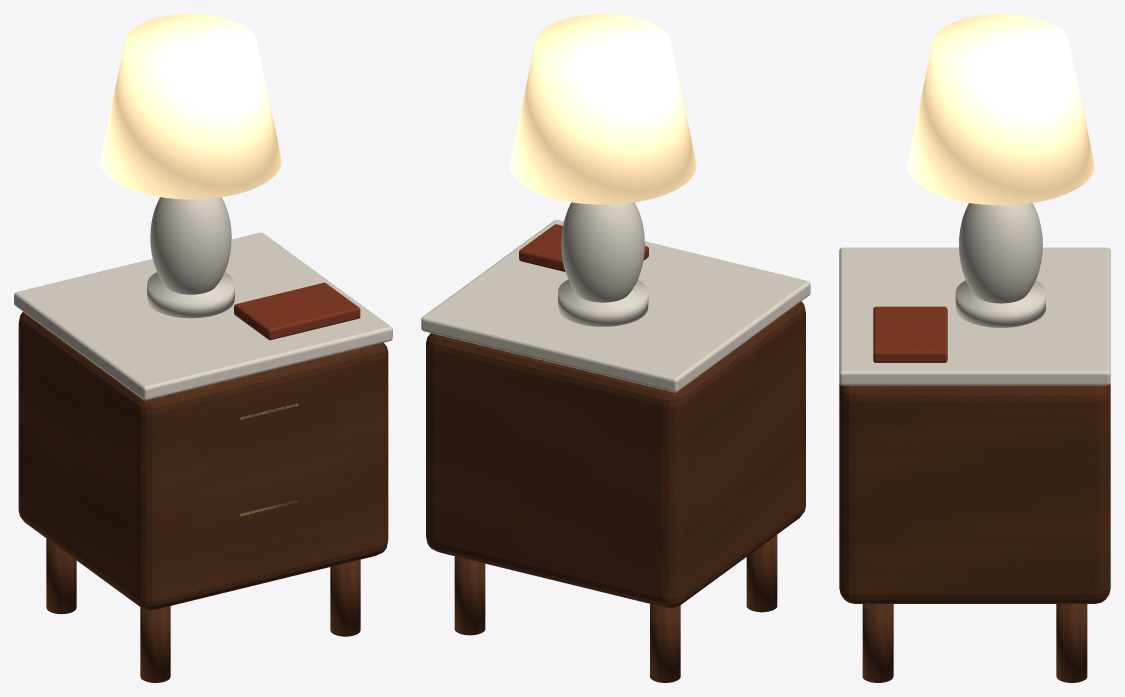
The model's file is bedroom-bedside.glb.
3 renders of one model, left to right at view 1: azimuth 30°, elevation 25°; view 2: azimuth 150°, elevation 25°; view 3: azimuth 270°, elevation 25°, orthographic. The views are drawn at different scales.
Visible parts, largest first — view 1: CANONICAL walnut cabinet, ACCENT warm linen lampshade, ACCENT pale stone top, ACCENT ceramic lamp body, ACCENT bedside book, ACCENT ceramic lamp foot, ACCENT short walnut foot, ACCENT short walnut foot.002, ACCENT short walnut foot.001; view 2: CANONICAL walnut cabinet, ACCENT pale stone top, ACCENT warm linen lampshade, ACCENT ceramic lamp body, ACCENT ceramic lamp foot, ACCENT short walnut foot.003, ACCENT short walnut foot.001, ACCENT short walnut foot, ACCENT bedside book; view 3: CANONICAL walnut cabinet, ACCENT warm linen lampshade, ACCENT pale stone top, ACCENT ceramic lamp body, ACCENT bedside book, ACCENT ceramic lamp foot, ACCENT short walnut foot.002, ACCENT short walnut foot.003.
Boxes of the visible parts, left/top/right/bottom form: CANONICAL walnut cabinet: left=18, top=312, right=388, bottom=610; ACCENT warm linen lampshade: left=100, top=14, right=281, bottom=199; ACCENT pale stone top: left=14, top=232, right=392, bottom=400; ACCENT ceramic lamp body: left=150, top=197, right=231, bottom=294; ACCENT bedside book: left=234, top=282, right=360, bottom=340; ACCENT ceramic lamp foot: left=147, top=272, right=234, bottom=318; ACCENT short walnut foot: left=140, top=606, right=170, bottom=682; ACCENT short walnut foot.002: left=330, top=559, right=360, bottom=636; ACCENT short walnut foot.001: left=46, top=538, right=76, bottom=614; CANONICAL walnut cabinet: left=426, top=301, right=805, bottom=608; ACCENT pale stone top: left=421, top=220, right=810, bottom=392; ACCENT warm linen lampshade: left=509, top=14, right=696, bottom=204; ACCENT ceramic lamp body: left=561, top=202, right=644, bottom=302; ACCENT ceramic lamp foot: left=558, top=279, right=648, bottom=326; ACCENT short walnut foot.003: left=454, top=556, right=485, bottom=635; ACCENT short walnut foot.001: left=650, top=604, right=680, bottom=682; ACCENT short walnut foot: left=746, top=535, right=777, bottom=612; ACCENT bedside book: left=519, top=224, right=648, bottom=271; CANONICAL walnut cabinet: left=839, top=383, right=1110, bottom=603; ACCENT warm linen lampshade: left=907, top=14, right=1094, bottom=205; ACCENT pale stone top: left=839, top=247, right=1110, bottom=385; ACCENT ceramic lamp body: left=959, top=203, right=1042, bottom=303; ACCENT bedside book: left=873, top=306, right=947, bottom=362; ACCENT ceramic lamp foot: left=955, top=280, right=1045, bottom=327; ACCENT short walnut foot.002: left=862, top=604, right=893, bottom=682; ACCENT short walnut foot.003: left=1056, top=604, right=1087, bottom=682.
Size of the model in its own units: 0.46 by 1 by 0.42.
6 materials, 3 textured.
